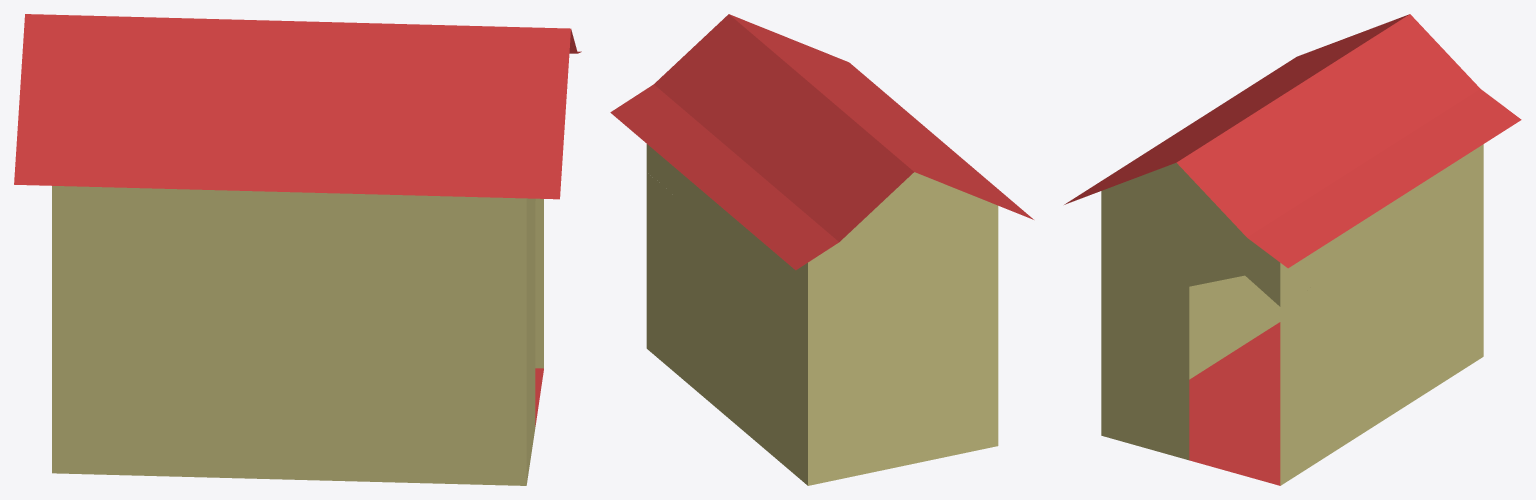
The picture shows the model from 3 angles, left to right: view 1: azimuth 30°, elevation 25°; view 2: azimuth 150°, elevation 25°; view 3: azimuth 270°, elevation 25°; orthographic projection. The views are drawn at different scales.
Bounding box in the file's own units: 18.21 × 16.66 × 12.35.
